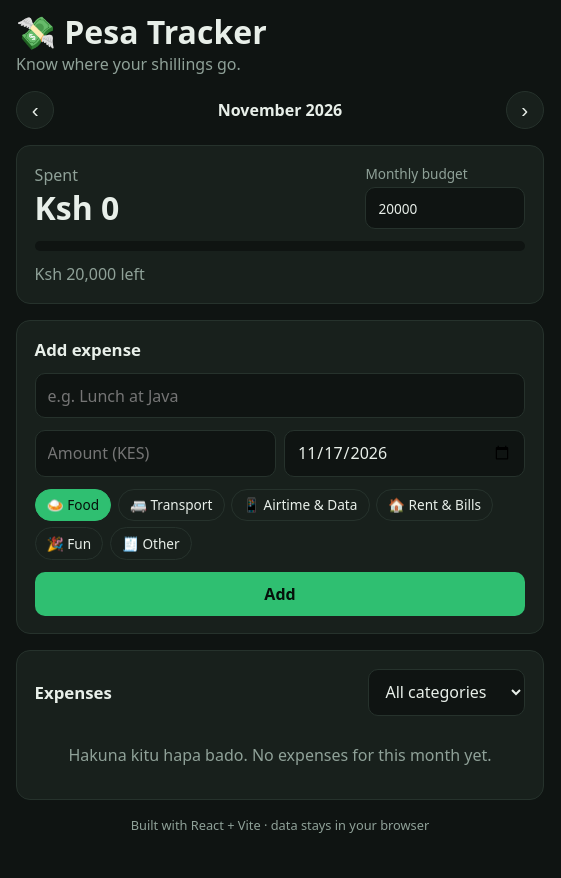
Test: Pesa Tracker › edits an existing expense
The width and height of the screenshot is (561, 878).
Type "Matatu" into the field with placeholder "e.g. Lunch at Java" at {"x": 280, "y": 396}, box [35,373,525,418]
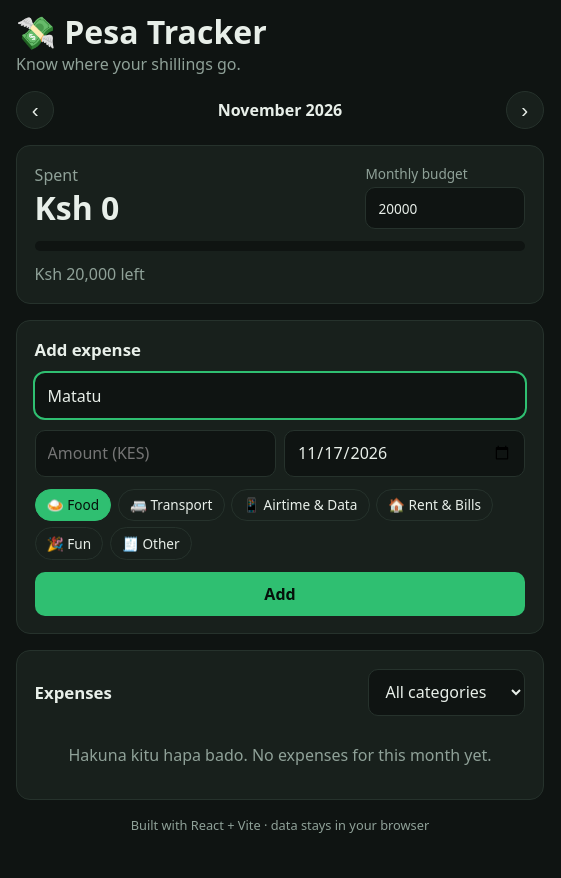
Type "100" into the number field with placeholder "Amount (KES)" at {"x": 155, "y": 453}, box [35,430,276,477]
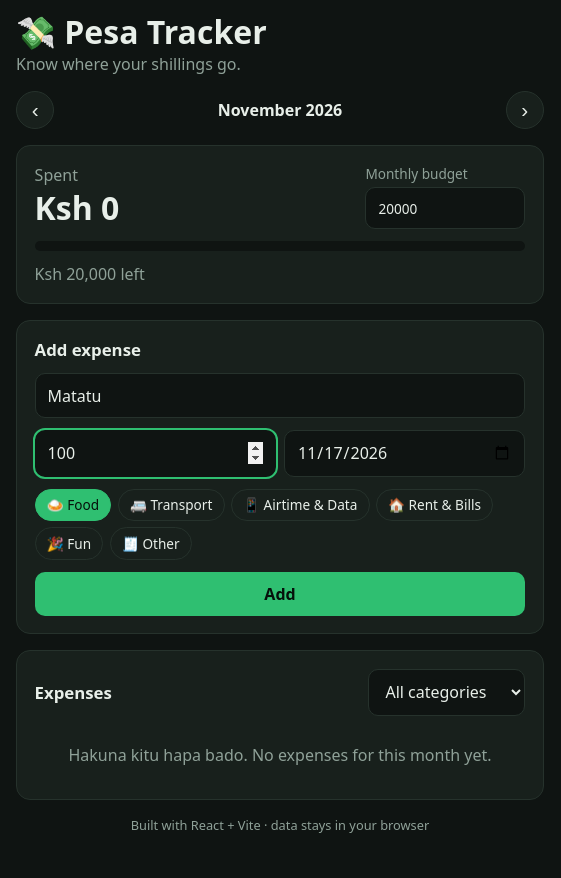
Click the button "Add" at {"x": 280, "y": 594}, box [35,572,525,616]
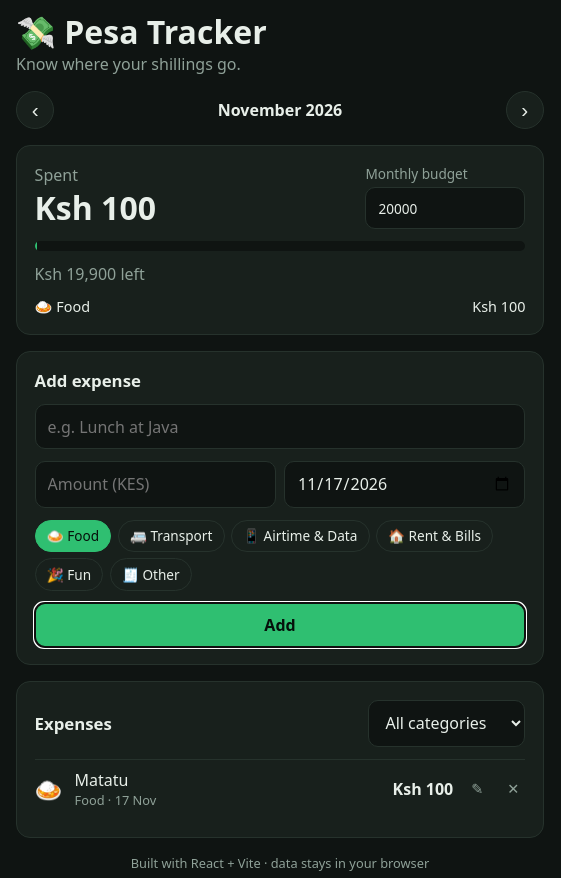
Click the button named "Edit Matatu" at {"x": 477, "y": 789}, box [465,780,489,798]
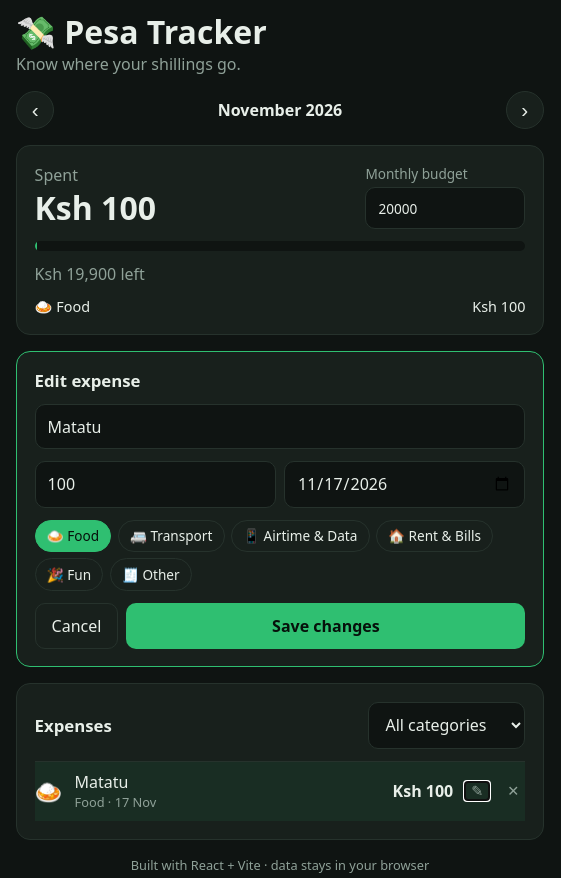
Check: the number field with placeholder "Amount (KES)" holds "100"
Replace the text in the number field with placeholder "Amount (KES)" with "150" at {"x": 155, "y": 484}, box [35,461,276,508]
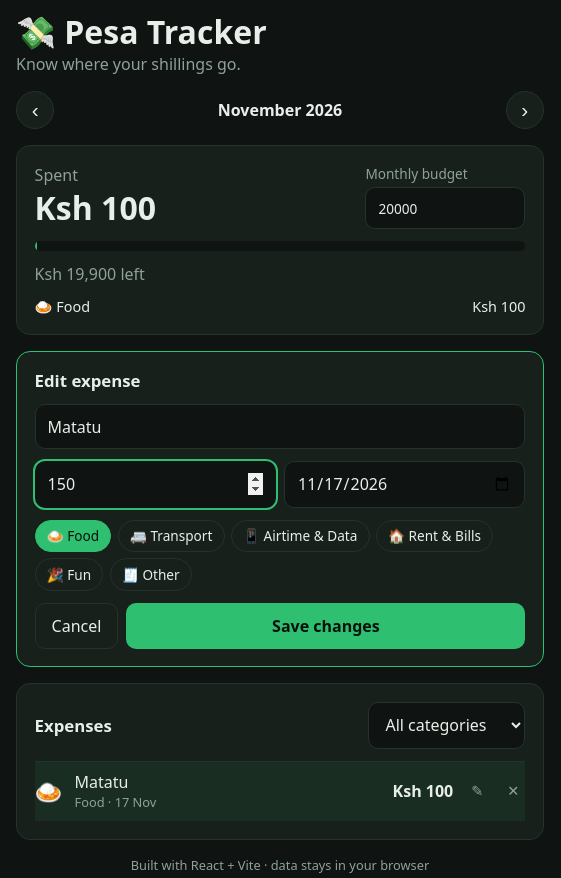
Click the button "Save changes" at {"x": 326, "y": 626}, box [126,602,525,649]
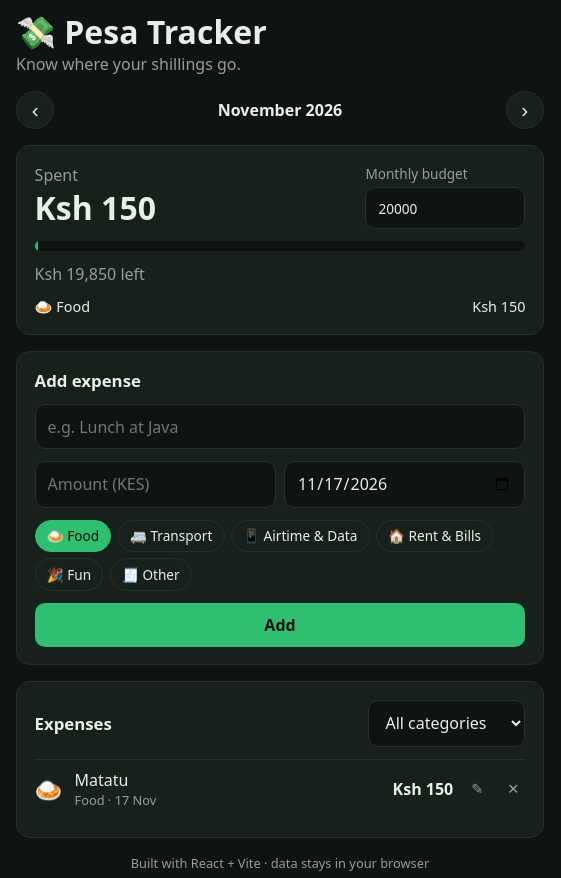
Check: the heading "Add expense" is shown, box [35,369,141,392]
